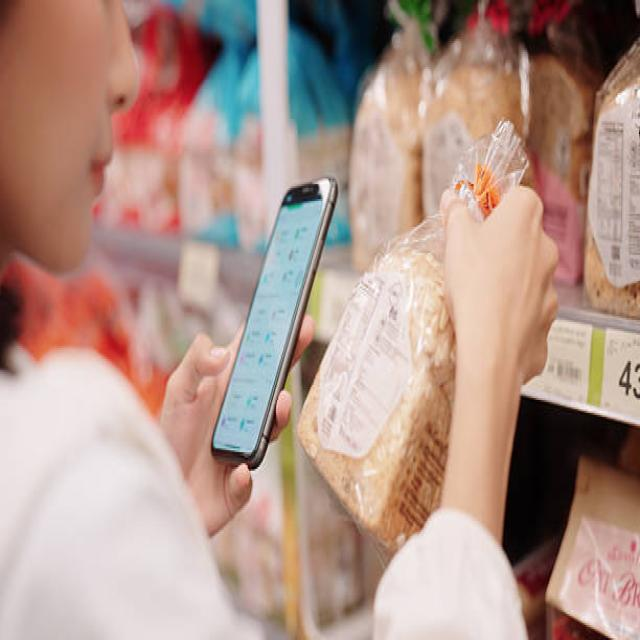article: (297, 218, 454, 553)
hands: (442, 188, 557, 541), (160, 326, 252, 534)
